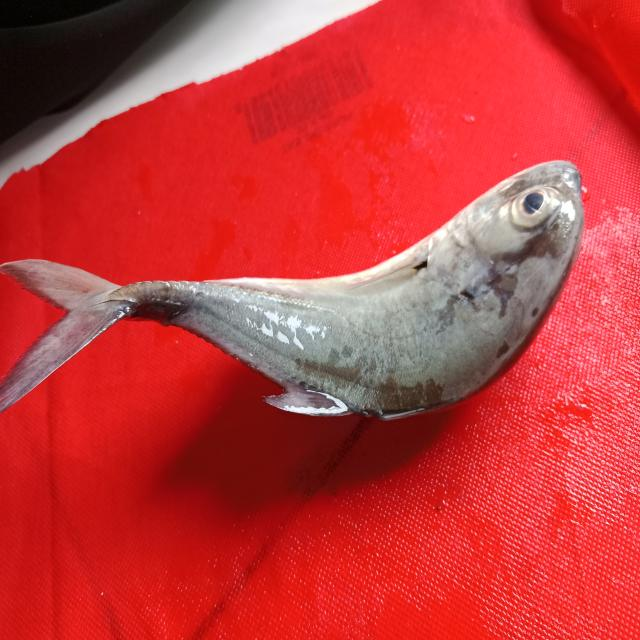ikan: (11, 152, 596, 435)
